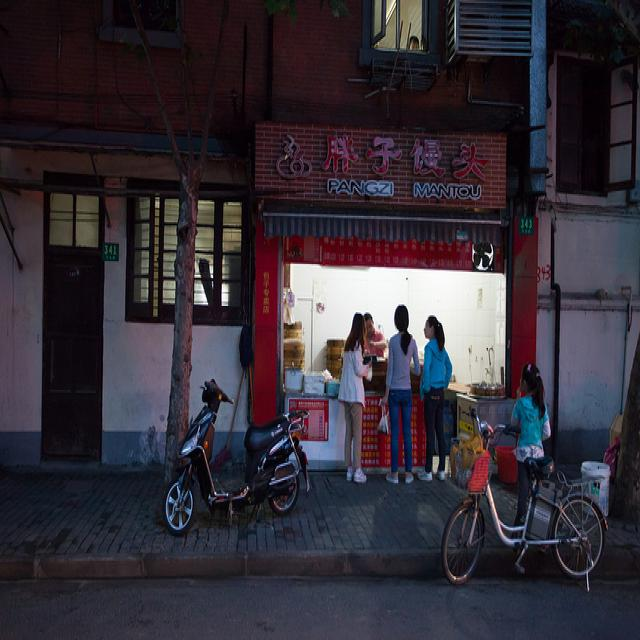motor: (163, 379, 311, 536)
